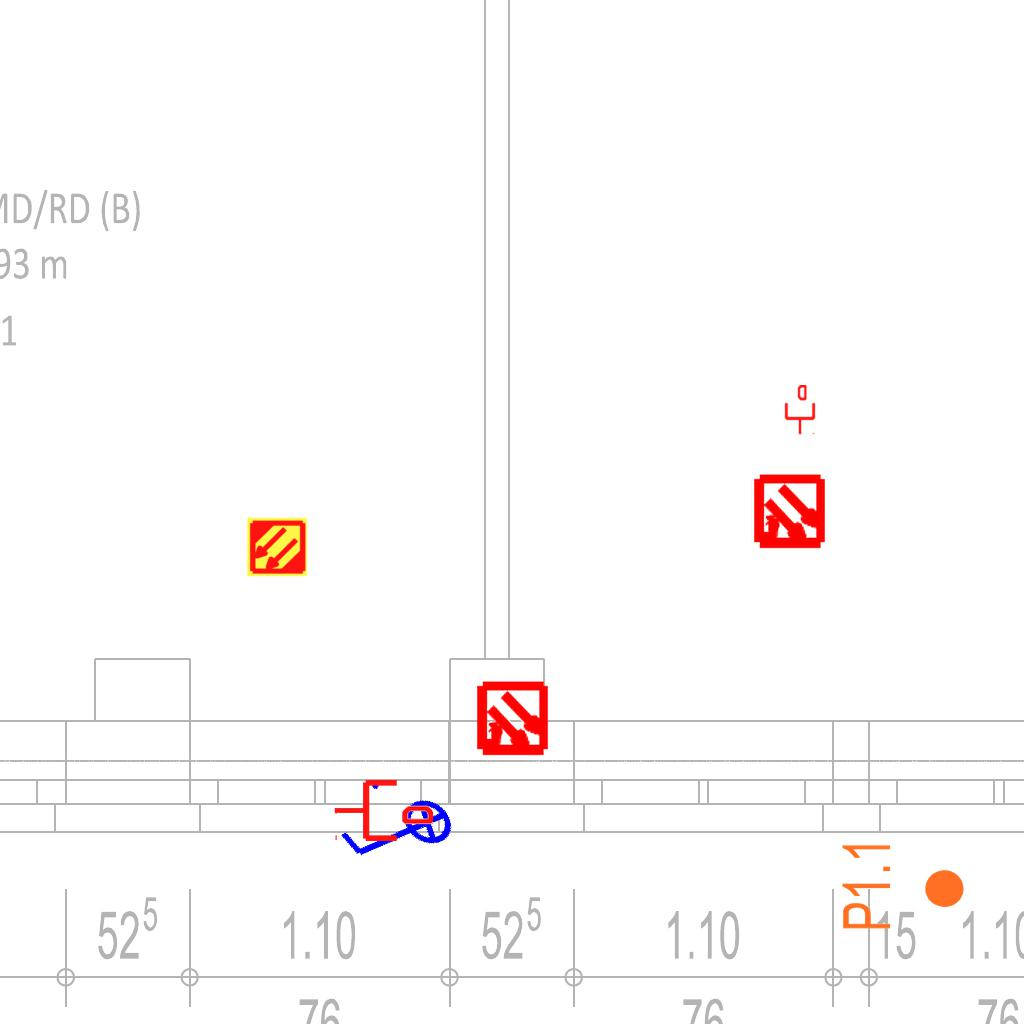ASR_Ansaugrauchmelder: (246, 516, 308, 578)
Ausschalter_beleuchtet: (325, 762, 473, 906)
Datenanschluss_einfach: (333, 776, 433, 845), (783, 385, 817, 435)
Downlight_LED_Einbauleuchten_Flur: (839, 839, 967, 932)
OT_Multisensormelder_(Kombination_RMO_WMD): (733, 457, 846, 570), (456, 664, 569, 777)
